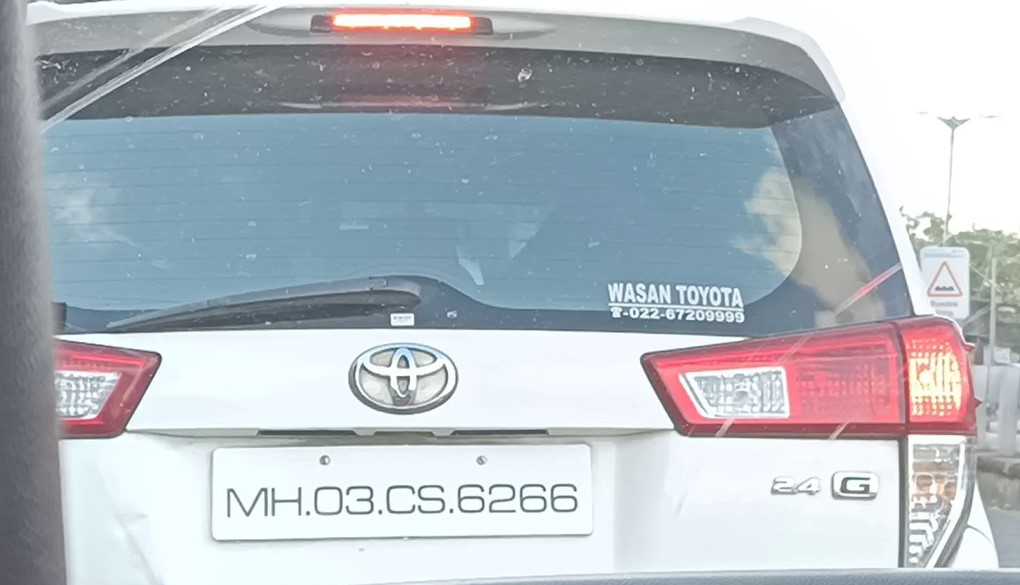MH03CS6266: (210, 441, 591, 542)
